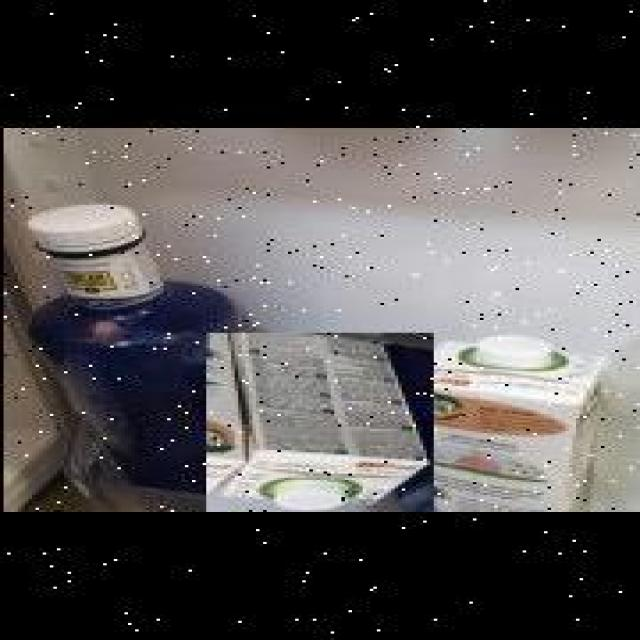milk: (384, 333, 626, 512), (203, 333, 430, 512)
